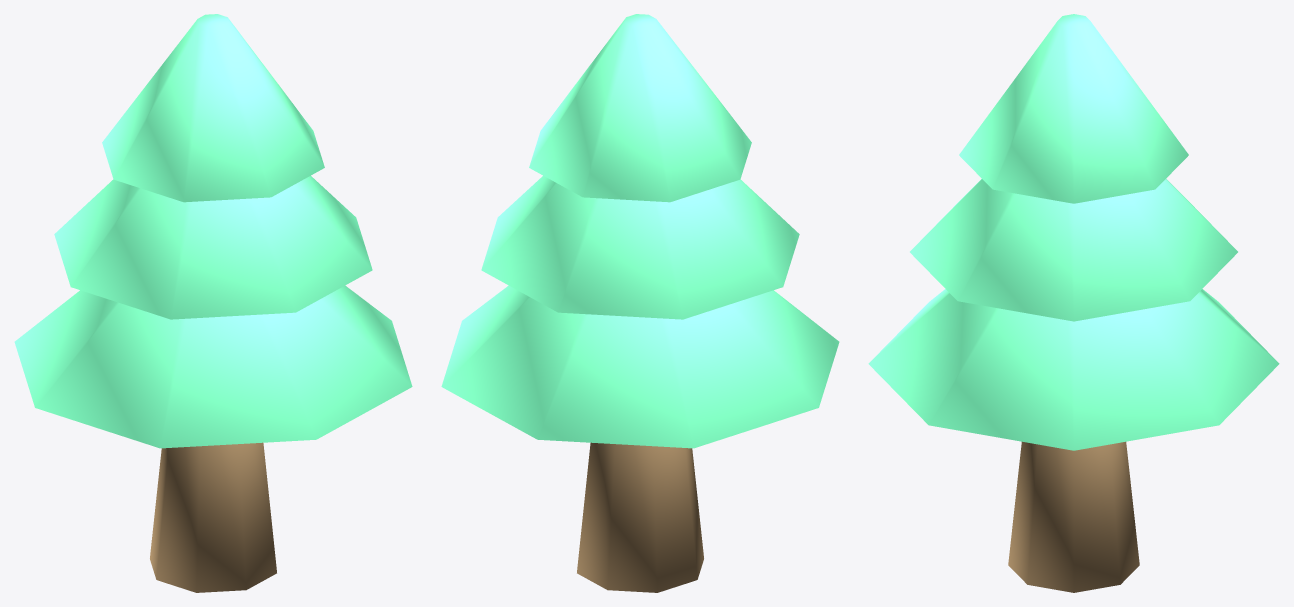
Rendered from collectible-tree.glb.
The picture shows the model from 3 angles, left to right: view 1: azimuth 30°, elevation 25°; view 2: azimuth 150°, elevation 25°; view 3: azimuth 270°, elevation 25°; orthographic projection.
Parts seen in each view (by area): view 1: Coll_Tree_Foliage_0, Coll_Tree_Foliage_1, Coll_Tree_Foliage_2, Coll_Tree_Trunk; view 2: Coll_Tree_Foliage_0, Coll_Tree_Foliage_1, Coll_Tree_Foliage_2, Coll_Tree_Trunk; view 3: Coll_Tree_Foliage_0, Coll_Tree_Foliage_1, Coll_Tree_Foliage_2, Coll_Tree_Trunk.
Part boxes in pixels (box(x1,y1,x2,y2)): Coll_Tree_Foliage_0: box(14, 285, 412, 448); Coll_Tree_Foliage_1: box(54, 175, 372, 319); Coll_Tree_Foliage_2: box(102, 14, 324, 202); Coll_Tree_Trunk: box(150, 442, 276, 592); Coll_Tree_Foliage_0: box(441, 285, 839, 448); Coll_Tree_Foliage_1: box(481, 175, 799, 319); Coll_Tree_Foliage_2: box(529, 14, 751, 202); Coll_Tree_Trunk: box(577, 442, 703, 592); Coll_Tree_Foliage_0: box(868, 289, 1279, 450); Coll_Tree_Foliage_1: box(910, 179, 1237, 321); Coll_Tree_Foliage_2: box(959, 14, 1188, 203); Coll_Tree_Trunk: box(1008, 441, 1139, 592).
Bounding box in the file's own units: 0.5 × 0.73 × 0.5.
